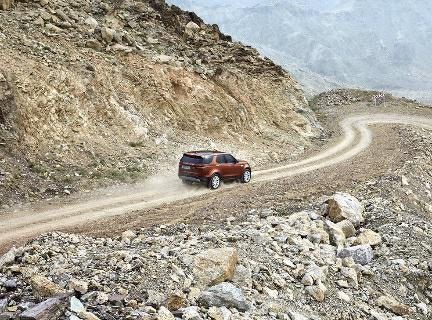路虎-揽胜运动版: (175, 143, 258, 189)
